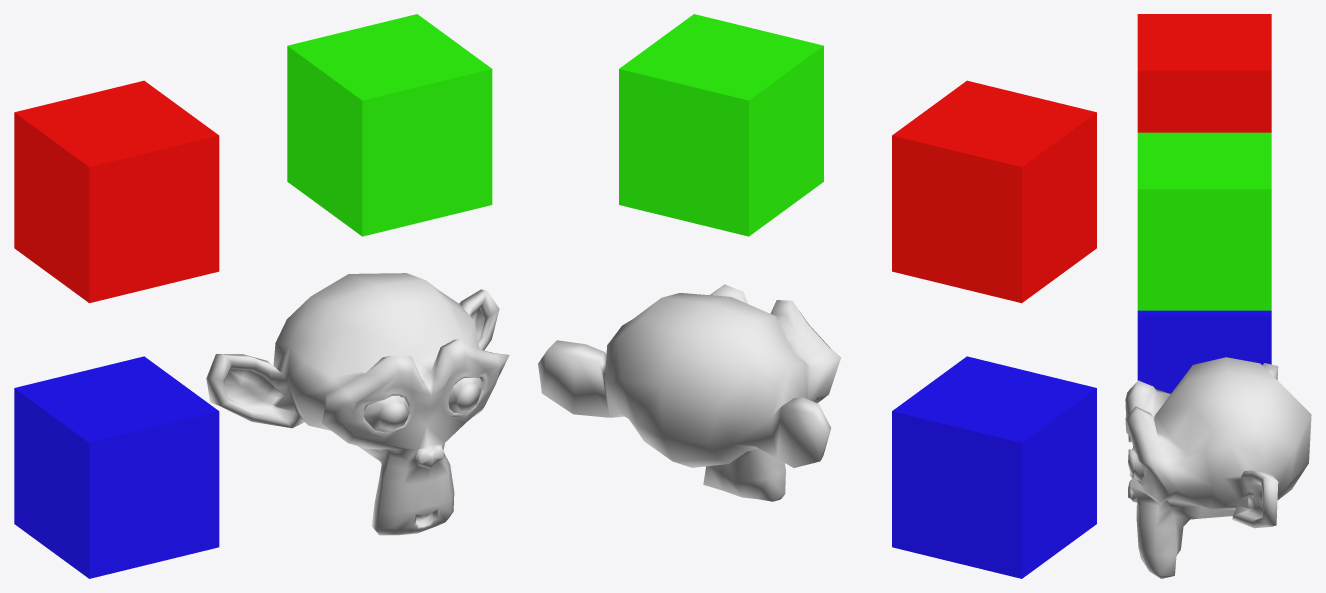
The model's file is test_blocks.gltf.
3 renders of one model, left to right at view 1: azimuth 30°, elevation 25°; view 2: azimuth 150°, elevation 25°; view 3: azimuth 270°, elevation 25°, orthographic. The views are drawn at different scales.
Parts seen in each view (by area): view 1: WhiteObj, RedObj, GreenObj, BlueObj; view 2: WhiteObj, RedObj, GreenObj, BlueObj; view 3: WhiteObj, GreenObj, RedObj, BlueObj.
Boxes of the visible parts, <box> form: WhiteObj: <box>206,273,509,535</box>; RedObj: <box>14,80,219,303</box>; GreenObj: <box>287,14,492,236</box>; BlueObj: <box>14,356,219,578</box>; WhiteObj: <box>538,284,841,501</box>; RedObj: <box>892,80,1096,303</box>; GreenObj: <box>619,14,823,236</box>; BlueObj: <box>892,356,1096,578</box>; WhiteObj: <box>1125,357,1311,578</box>; GreenObj: <box>1137,132,1271,310</box>; RedObj: <box>1137,14,1271,132</box>; BlueObj: <box>1137,310,1271,393</box>.
Bounding box in the file's own units: 7.43 × 6.7 × 2.78.
